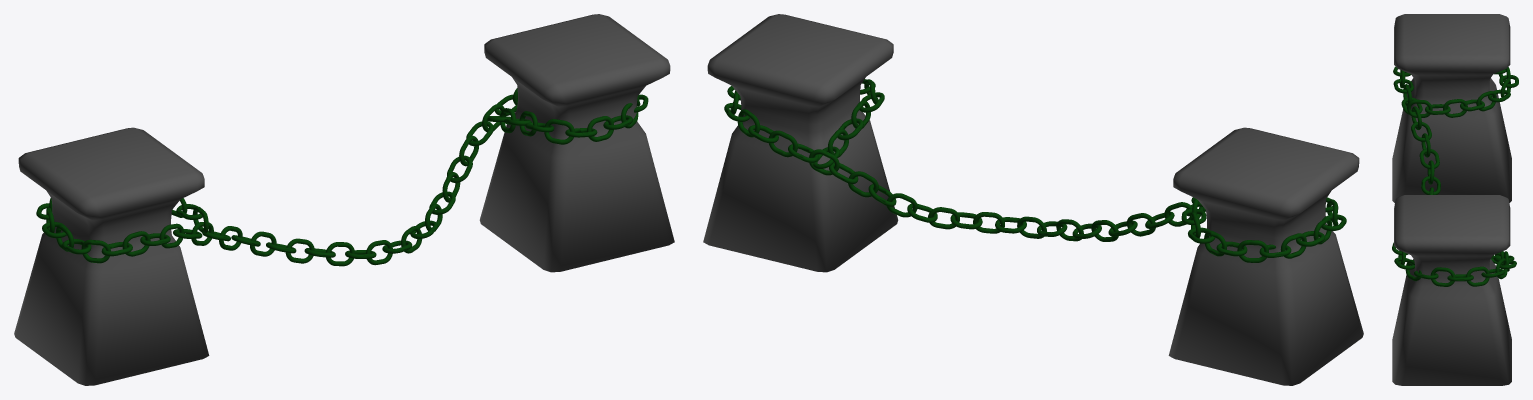
The model's file is Boi.fbx.
3 views of the same model, side by side, from view 1: azimuth 30°, elevation 25°; view 2: azimuth 150°, elevation 25°; view 3: azimuth 270°, elevation 25° (orthographic). The views are drawn at different scales.
Parts seen in each view (by area): view 1: Cube.003; view 2: Cube.003; view 3: Cube.003.
Part boxes in pixels (x1=…): Cube.003: x1=14, y1=14, x2=674, y2=385; Cube.003: x1=703, y1=14, x2=1363, y2=385; Cube.003: x1=1392, y1=14, x2=1518, y2=385.
Size of the model in its own units: 164 by 48 by 38.03.
